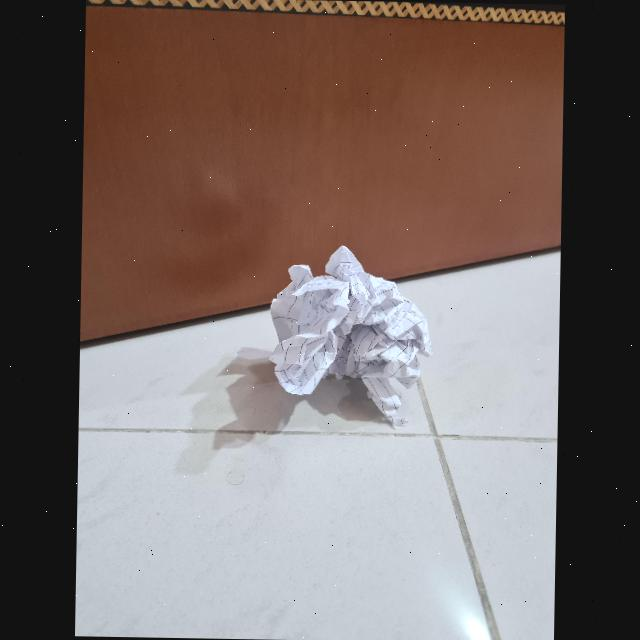trash: (262, 240, 434, 427)
